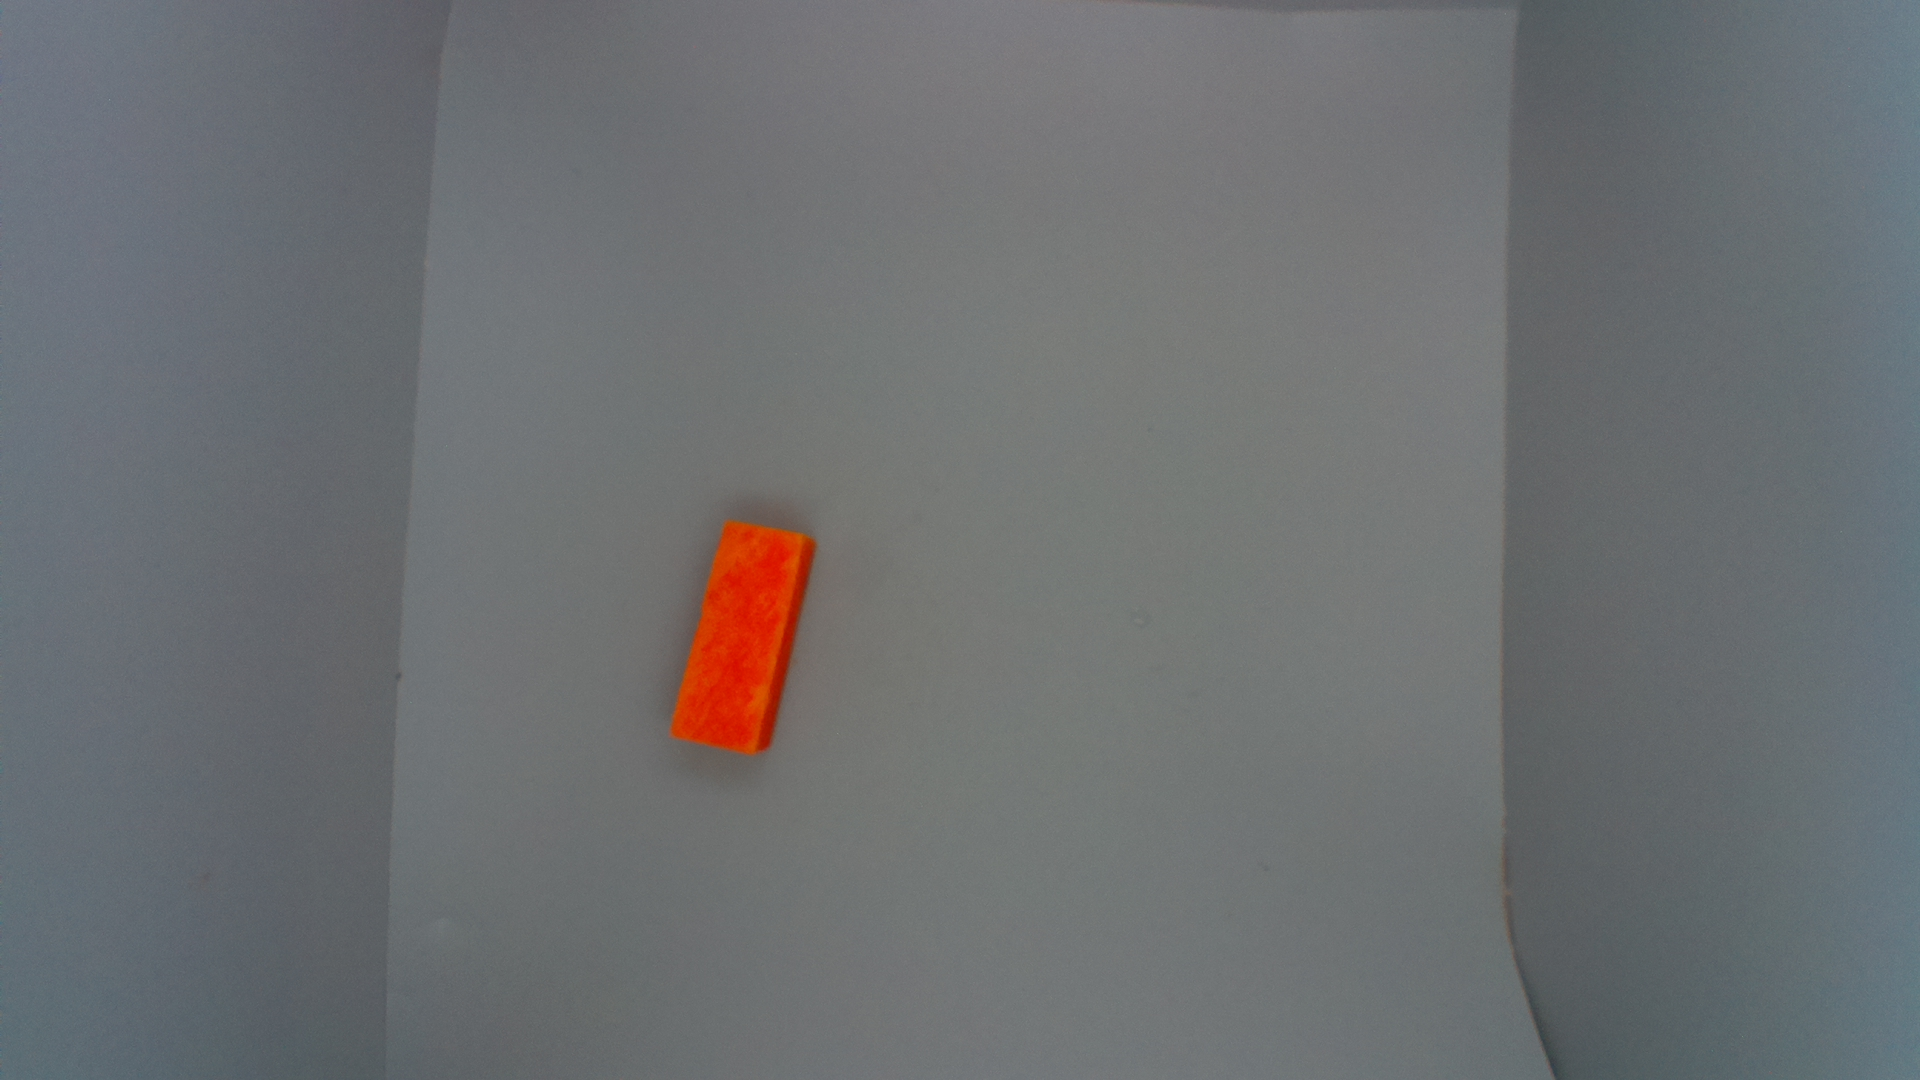carrot: (666, 516, 818, 757)
